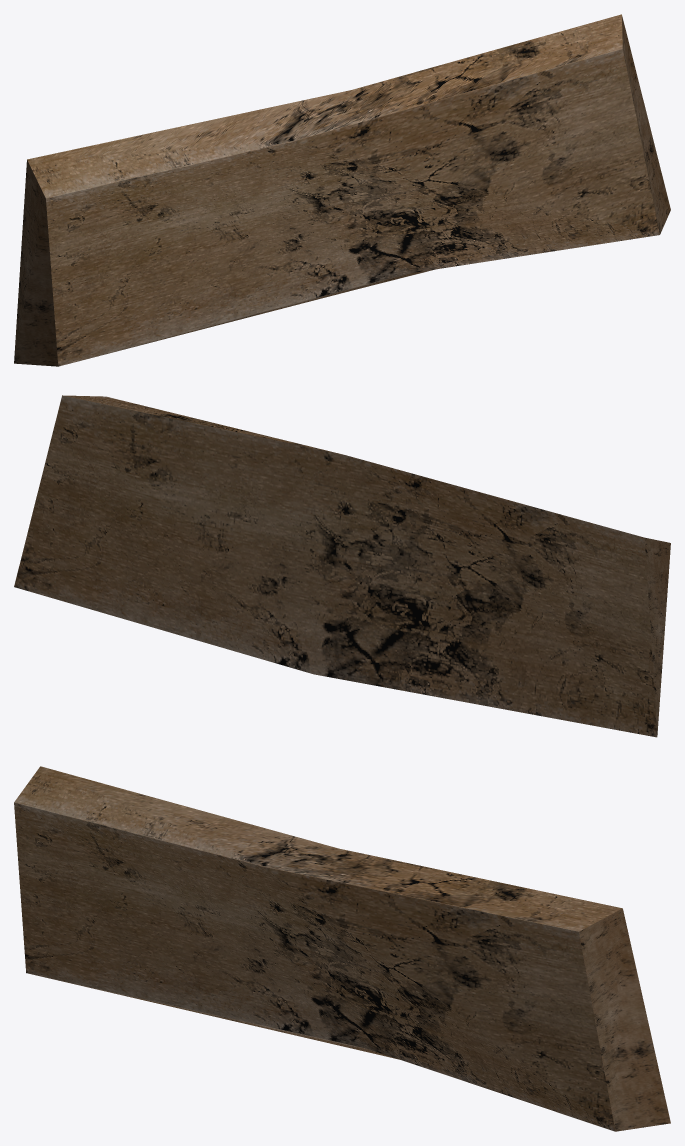
The model's file is SM_Plank_03.fbx.
The picture shows the model from 3 angles, top to bottom: view 1: azimuth 30°, elevation 25°; view 2: azimuth 150°, elevation 25°; view 3: azimuth 330°, elevation 25°; orthographic projection. The views are drawn at different scales.
Visible parts, largest first — view 1: SM_Plank_03; view 2: SM_Plank_03; view 3: SM_Plank_03.
Part boxes in pixels (x1,y1,x2,y2): SM_Plank_03: [14, 14, 670, 366]; SM_Plank_03: [14, 395, 670, 737]; SM_Plank_03: [14, 766, 670, 1131].
Size of the model in its own units: 66.22 by 20.83 by 5.04.
Materials: 1 (1 with a texture image).
